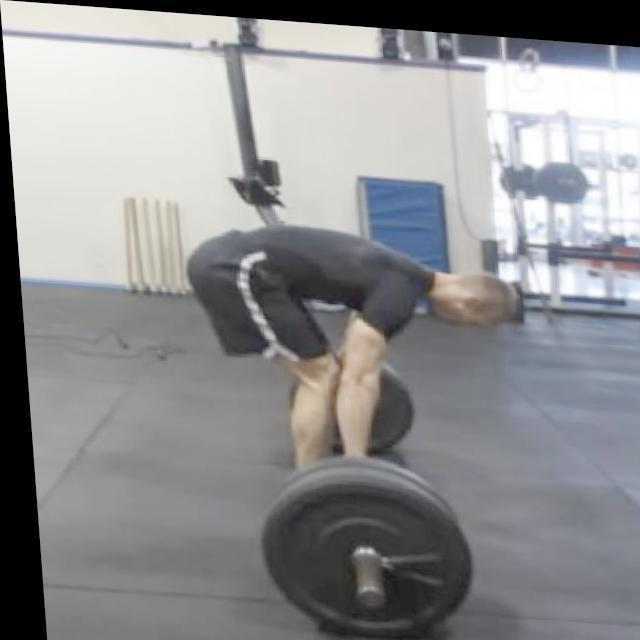barbell: (241, 458, 476, 640)
